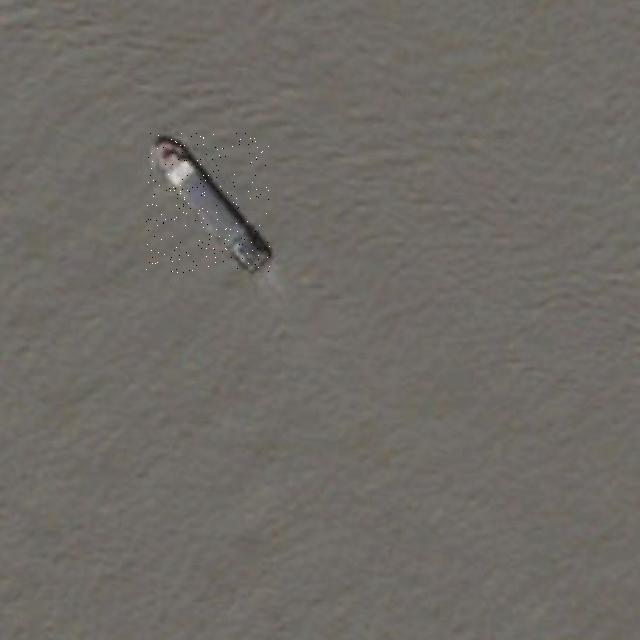boat: (147, 133, 270, 274)
